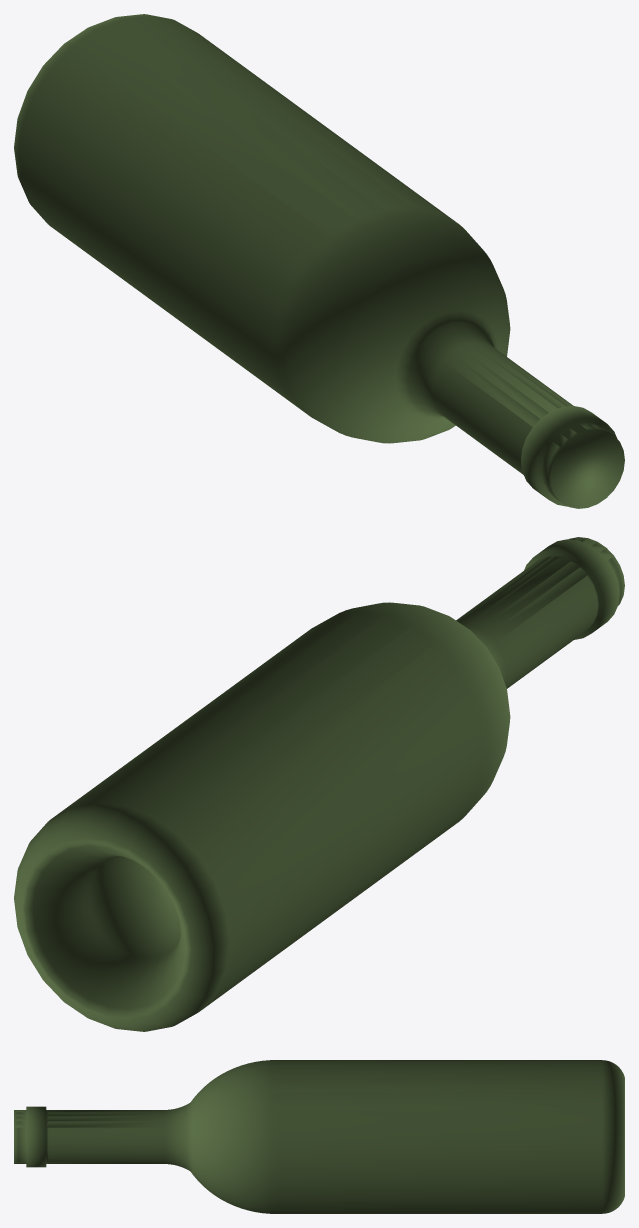
File: model_align.obj
The picture shows the model from 3 angles, top to bottom: view 1: azimuth 30°, elevation 25°; view 2: azimuth 150°, elevation 25°; view 3: azimuth 270°, elevation 25°; orthographic projection. The views are drawn at different scales.
Visible parts, largest first — view 1: mesh1_mesh1-geometry; view 2: mesh1_mesh1-geometry; view 3: mesh1_mesh1-geometry.
Part boxes in pixels (bbox=[...]): mesh1_mesh1-geometry: bbox=[14, 14, 624, 508]; mesh1_mesh1-geometry: bbox=[14, 537, 624, 1031]; mesh1_mesh1-geometry: bbox=[14, 1060, 624, 1213].
Size of the model in its own units: 0.0629 by 0.0629 by 0.249.
